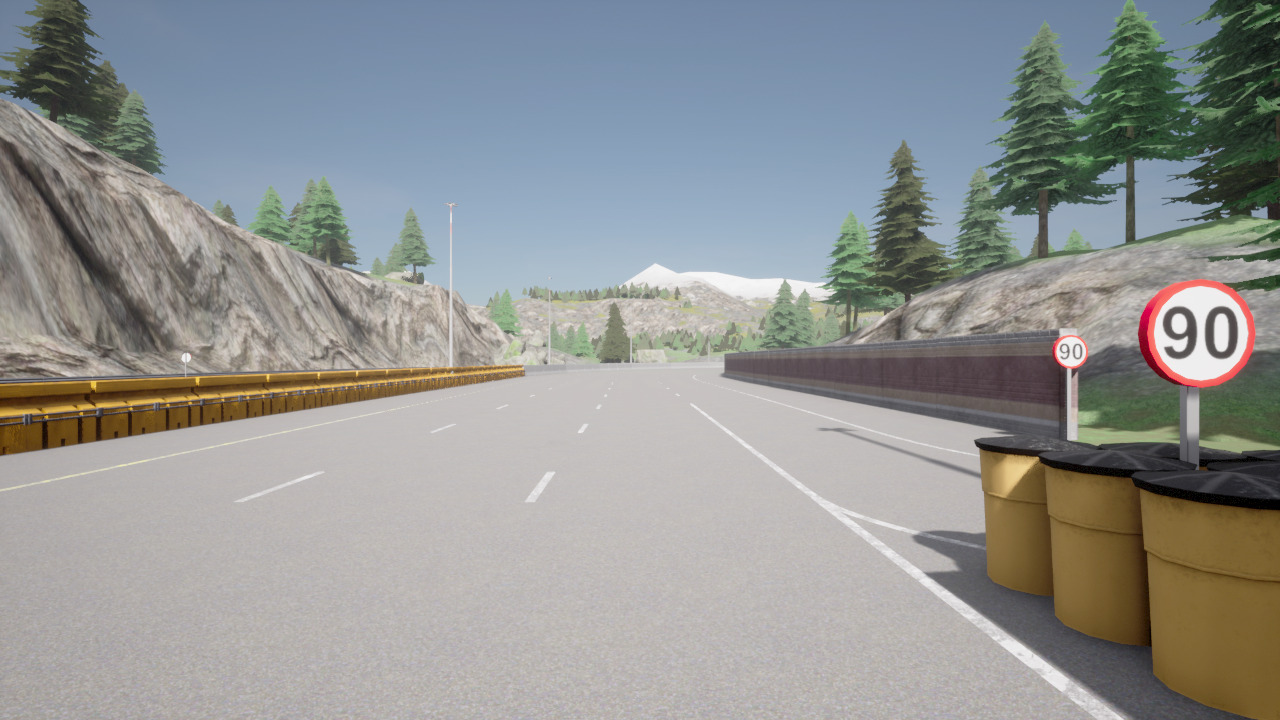sl90: (1137, 277, 1259, 391), (1051, 333, 1090, 371)
